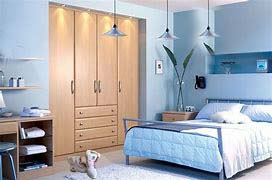copymove: (137, 44, 210, 103)
removal: (66, 45, 107, 74)
spliced: (70, 147, 100, 180)
